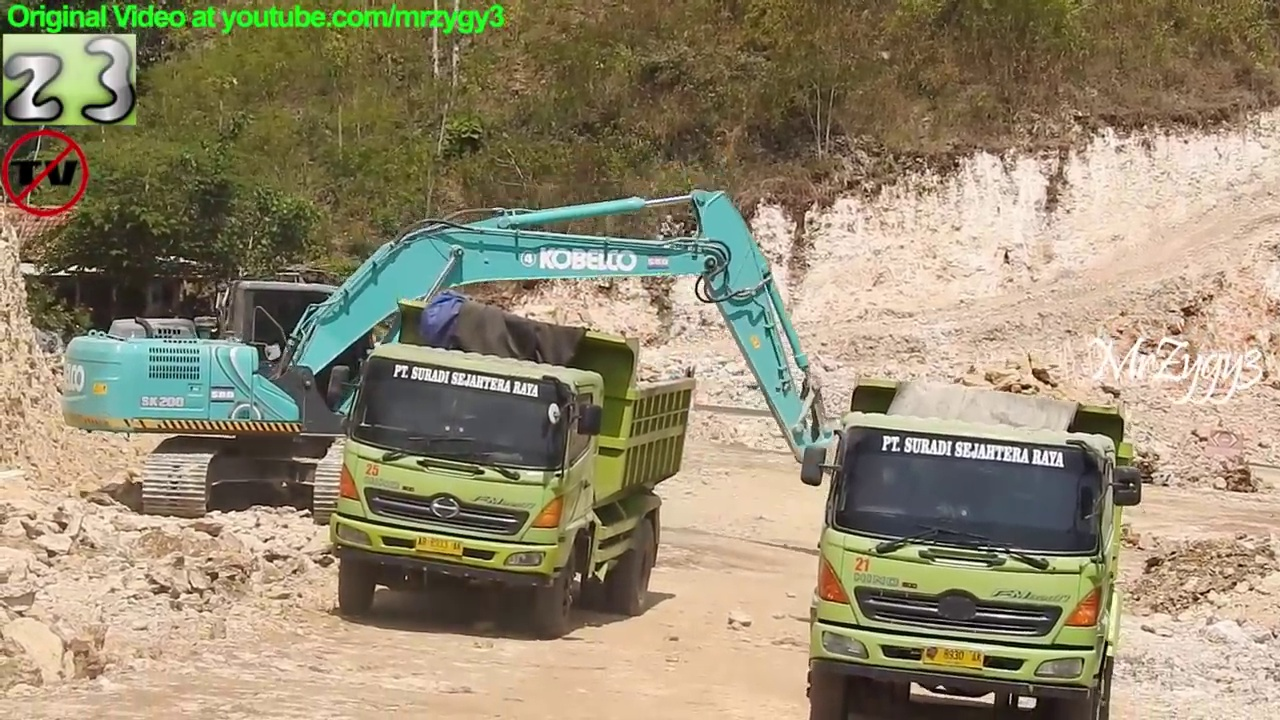excavator: (55, 182, 958, 536)
truck: (323, 292, 699, 644), (795, 374, 1149, 720)
